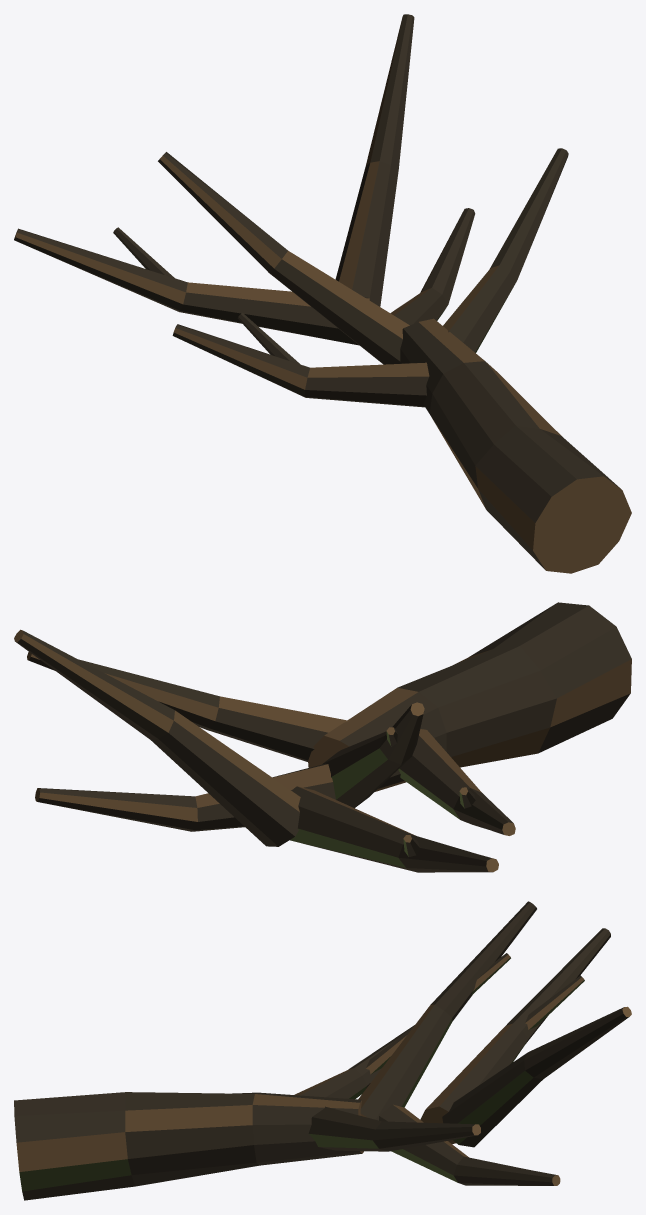
The model's file is wood_009a_sunken_branch_crown.glb.
3 renders of one model, top to bottom at view 1: azimuth 30°, elevation 25°; view 2: azimuth 150°, elevation 25°; view 3: azimuth 270°, elevation 25°, orthographic. The views are drawn at different scales.
Visible parts, largest first — view 1: wood_009a_sunken_branch_crown__mesh; view 2: wood_009a_sunken_branch_crown__mesh; view 3: wood_009a_sunken_branch_crown__mesh.
Boxes of the visible parts, box(x1,y1,x2,y2) form: wood_009a_sunken_branch_crown__mesh: box(14, 14, 631, 573); wood_009a_sunken_branch_crown__mesh: box(14, 602, 631, 872); wood_009a_sunken_branch_crown__mesh: box(14, 901, 631, 1200).
Size of the model in its own units: 8.68 by 4.81 by 10.47.
